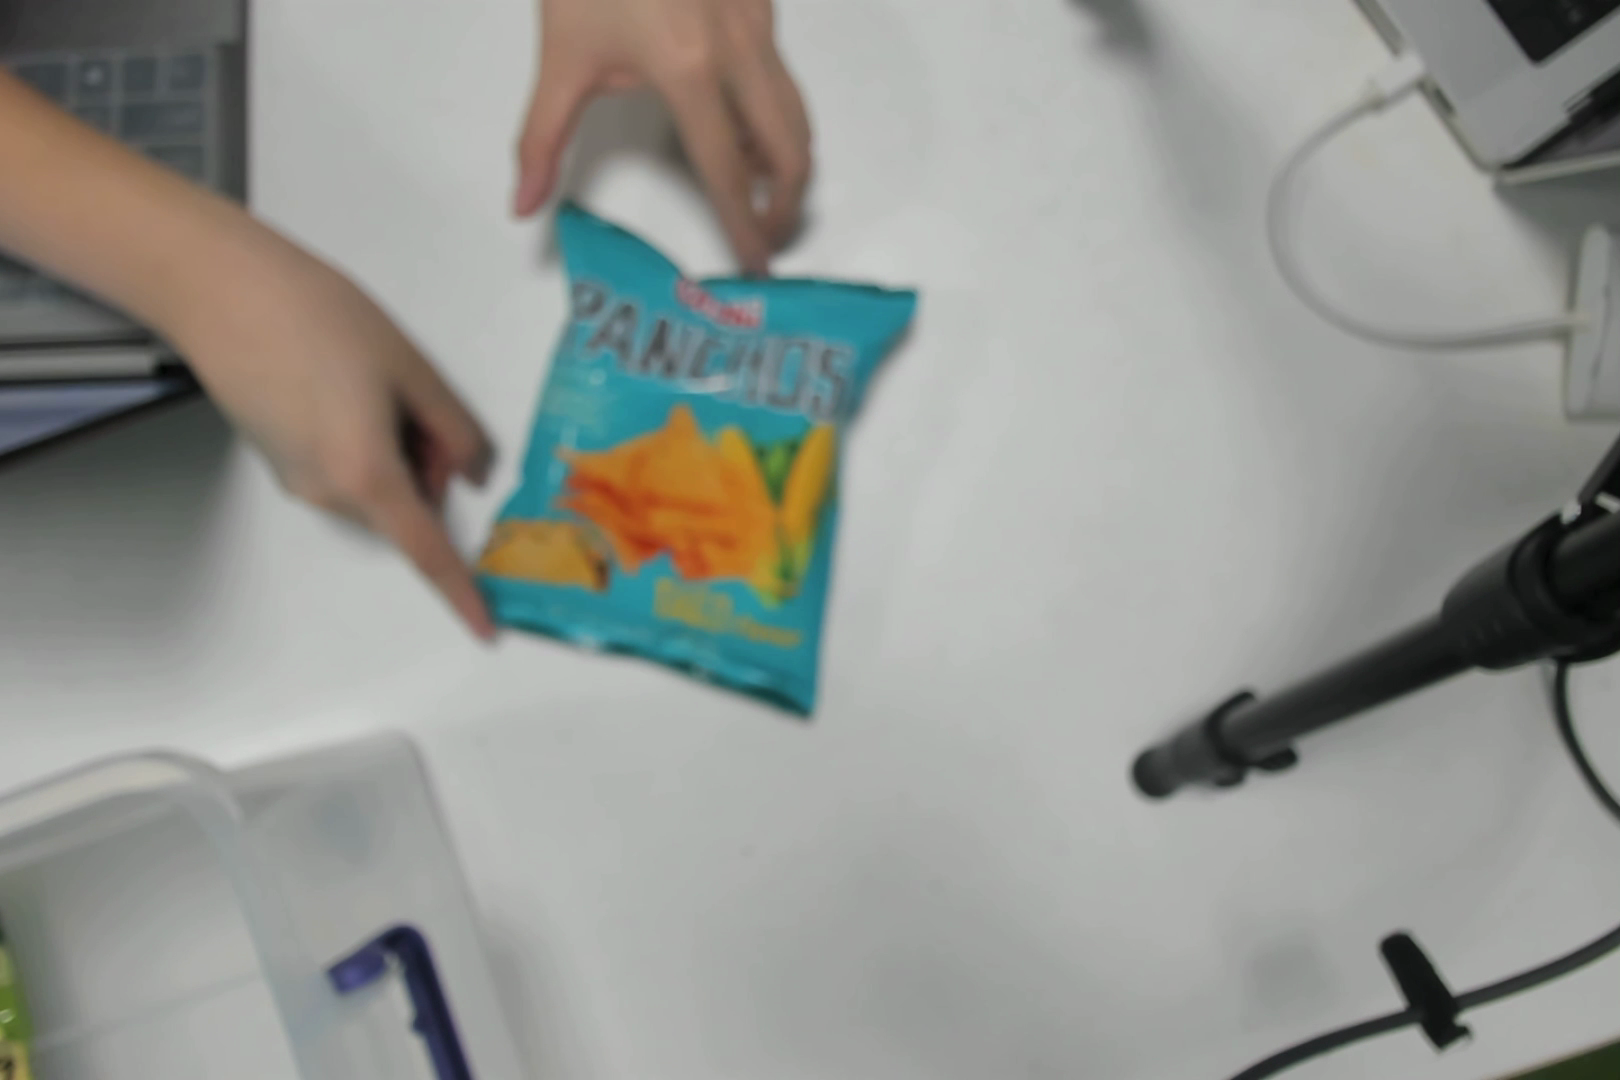PotatochipsKeropok_1-99g_NonHalal_NonHealthy: (527, 262, 875, 712)
